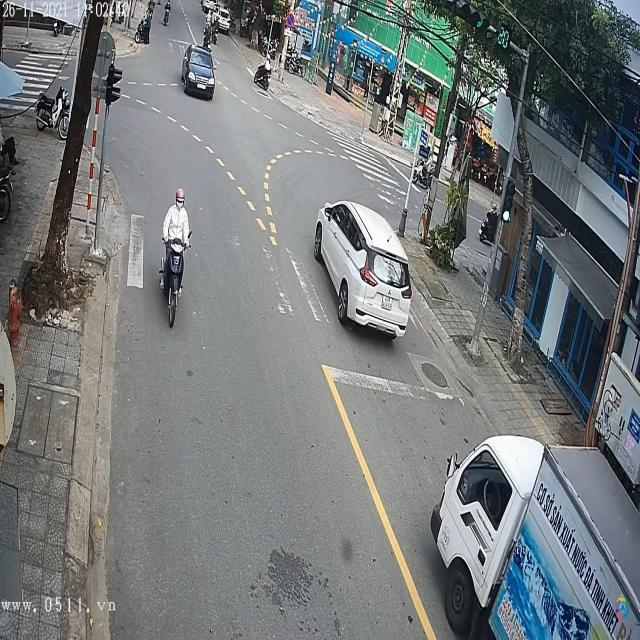car: (313, 203, 414, 342), (180, 46, 216, 100)
motorcycle: (160, 232, 192, 328), (255, 62, 273, 90)
truck: (429, 434, 640, 639)
